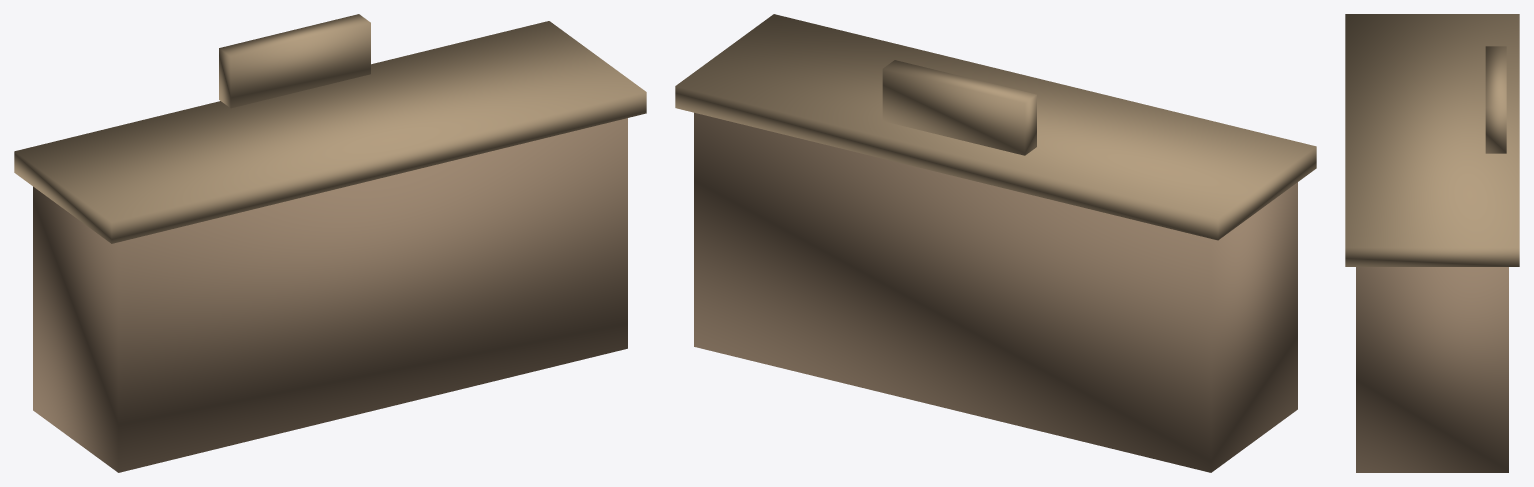
Rendered from judge_bench__wide.glb.
The picture shows the model from 3 angles, left to right: view 1: azimuth 30°, elevation 25°; view 2: azimuth 150°, elevation 25°; view 3: azimuth 270°, elevation 25°; orthographic projection. The views are drawn at different scales.
Parts seen in each view (by area): view 1: world; view 2: world; view 3: world.
Boxes of the visible parts, left/top/right/bottom form: world: left=14, top=14, right=646, bottom=472; world: left=675, top=14, right=1316, bottom=472; world: left=1345, top=14, right=1519, bottom=472.
Bounding box in the file's own units: 2.6 × 1.48 × 0.82.
